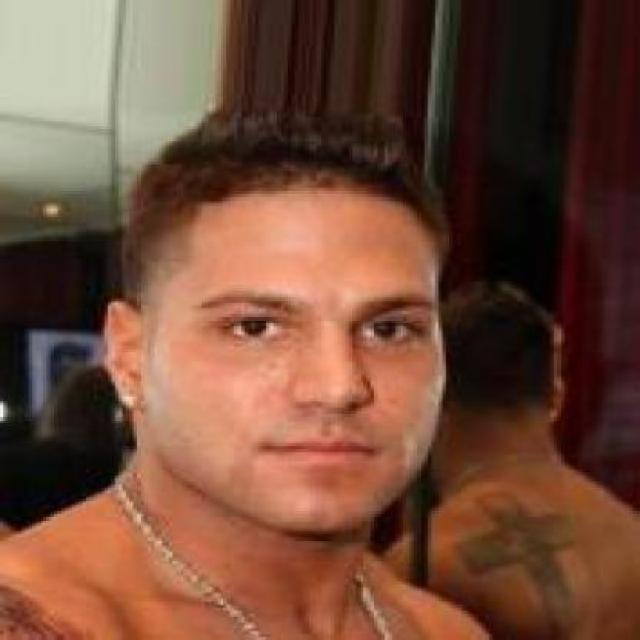closed-mouth: (258, 432, 378, 468)
